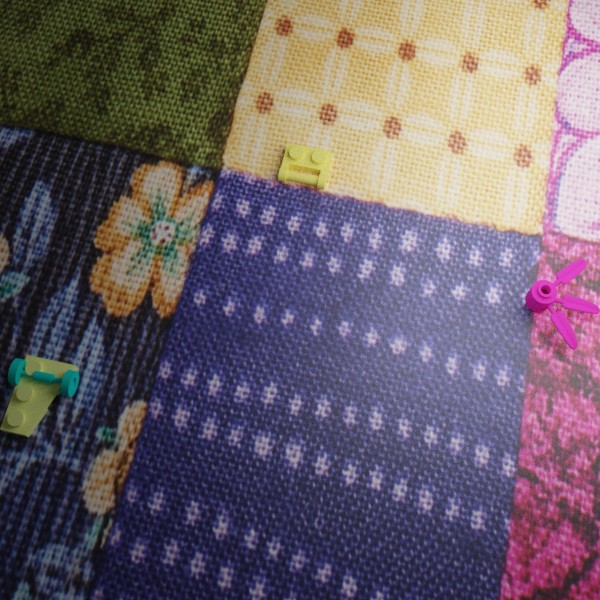lego: (525, 258, 600, 349), (0, 354, 78, 437), (7, 358, 78, 396), (278, 142, 332, 189)
